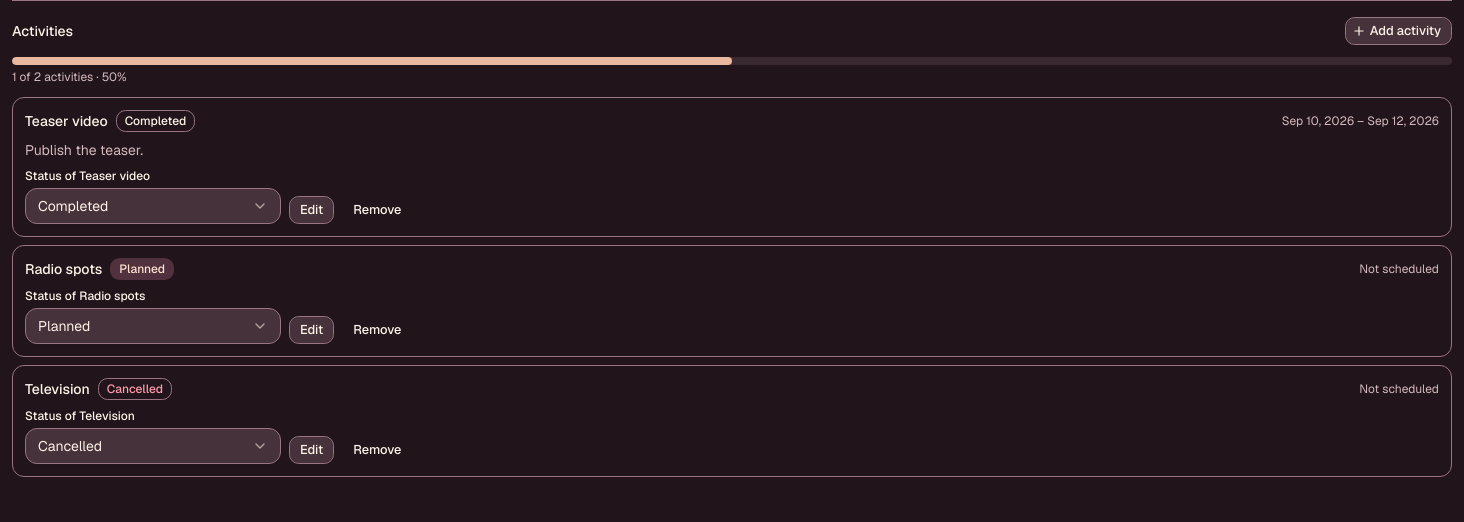
Test case: CampaignActivities › changing status inline › shows a message beside the activity and keeps its status when it fails
The width and height of the screenshot is (1464, 522).
Expected: the text "Teaser video" is shown, [25,111,108,131]
Click the dropdown named "Status of Radio spots" at (153, 326), box [25,308,281,344]
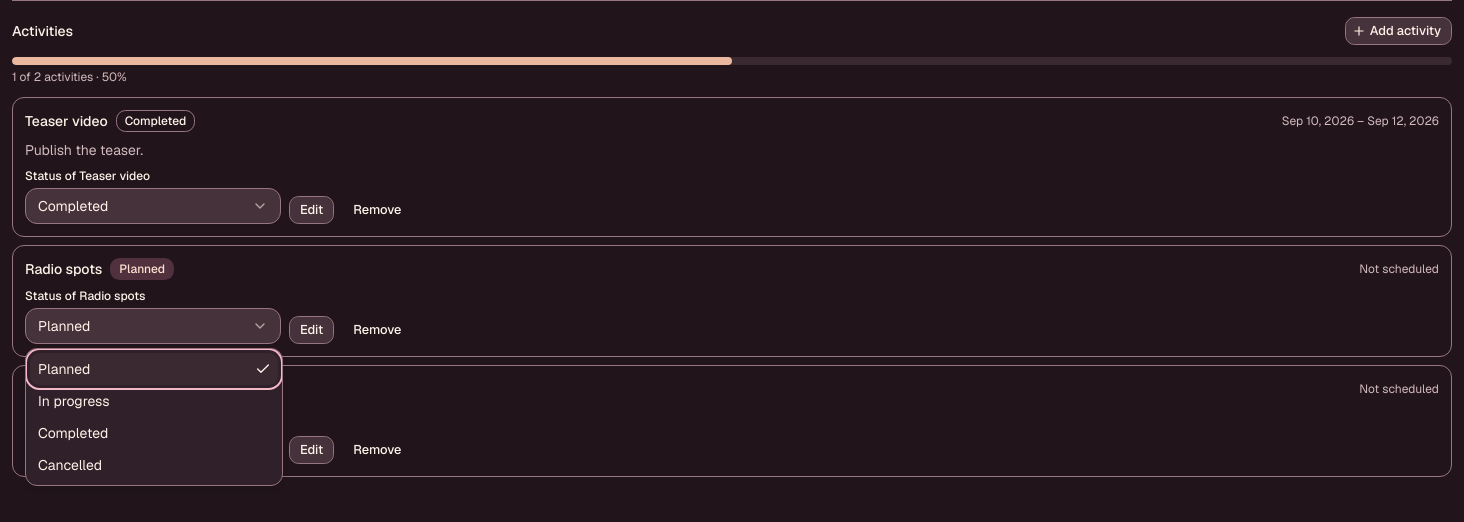
Click the option "Completed" at (73, 433), box [38,424,108,442]
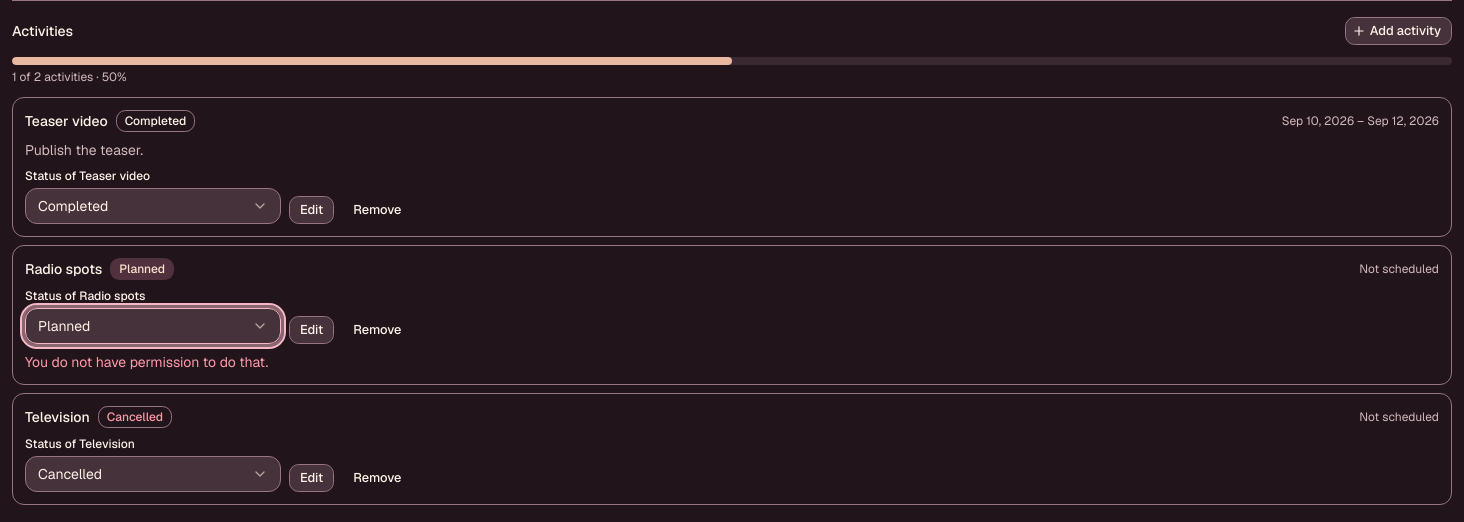
Expected: the dropdown named "Status of Radio spots" reads "Planned", [25,308,281,344]
Expected: the text "You do not have permission to do that." is shown, [25,353,268,371]
